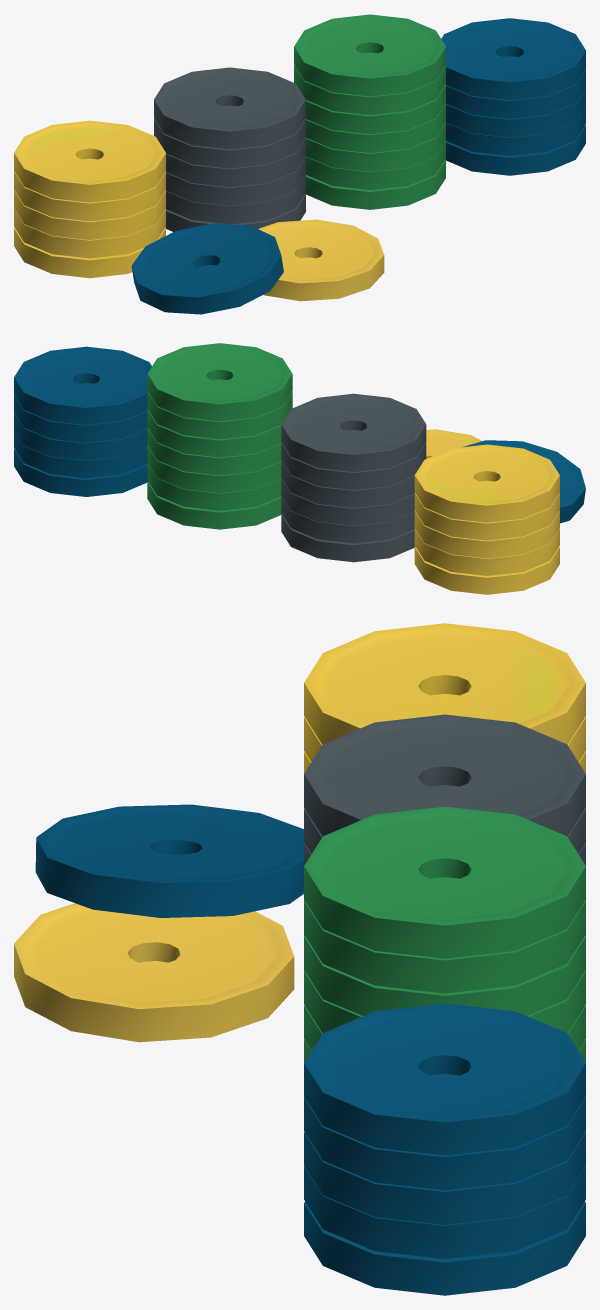
File: gym_decoration_3.glb
3 renders of one model, top to bottom at view 1: azimuth 30°, elevation 25°; view 2: azimuth 150°, elevation 25°; view 3: azimuth 270°, elevation 25°, orthographic. The views are drawn at different scales.
Visible parts, largest first — view 1: GymEquipments_20_GymEquipments_SG_0; view 2: GymEquipments_20_GymEquipments_SG_0; view 3: GymEquipments_20_GymEquipments_SG_0.
Part boxes in pixels (x1,y1,x2,y2): GymEquipments_20_GymEquipments_SG_0: (14, 14, 585, 314); GymEquipments_20_GymEquipments_SG_0: (14, 343, 585, 594); GymEquipments_20_GymEquipments_SG_0: (14, 623, 585, 1295).
Bounding box in the file's own units: 1.1 × 0.2495 × 0.5314.
1 material, 1 textured.
